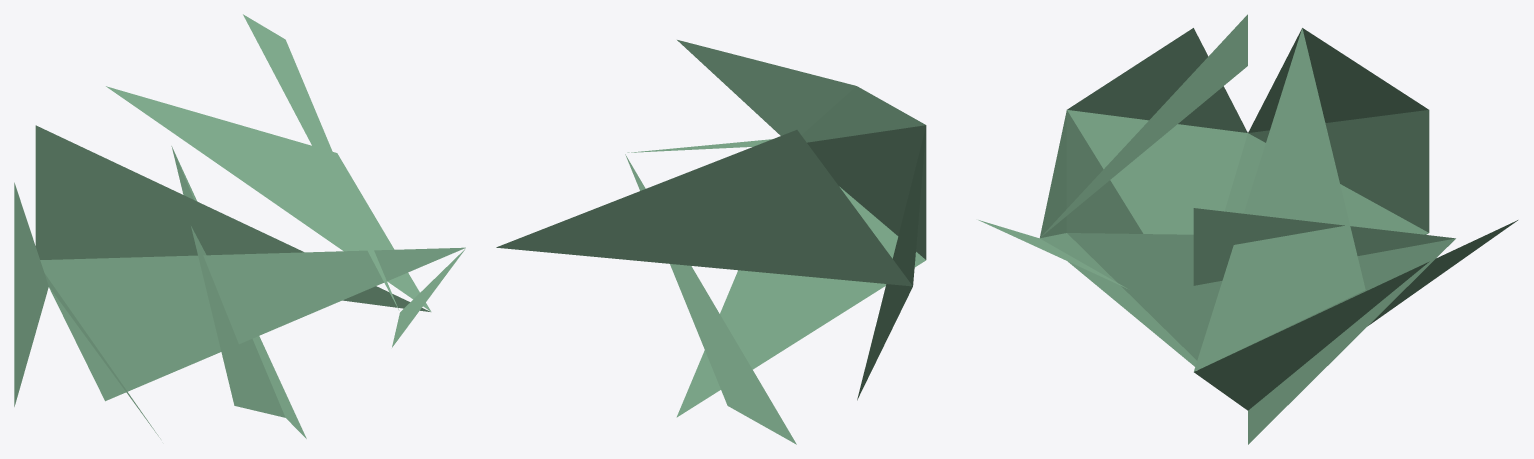
File: tortuga_nuro.glb
The picture shows the model from 3 angles, left to right: view 1: azimuth 30°, elevation 25°; view 2: azimuth 150°, elevation 25°; view 3: azimuth 270°, elevation 25°; orthographic projection. The views are drawn at different scales.
Visible parts, largest first — view 1: tortuga_nuro; view 2: tortuga_nuro; view 3: tortuga_nuro.
Boxes of the visible parts, bbox=[...] form: tortuga_nuro: bbox=[14, 14, 465, 438]; tortuga_nuro: bbox=[496, 40, 926, 444]; tortuga_nuro: bbox=[978, 14, 1517, 444].
Bounding box in the file's own units: 1.03 × 0.98 × 1.2.
